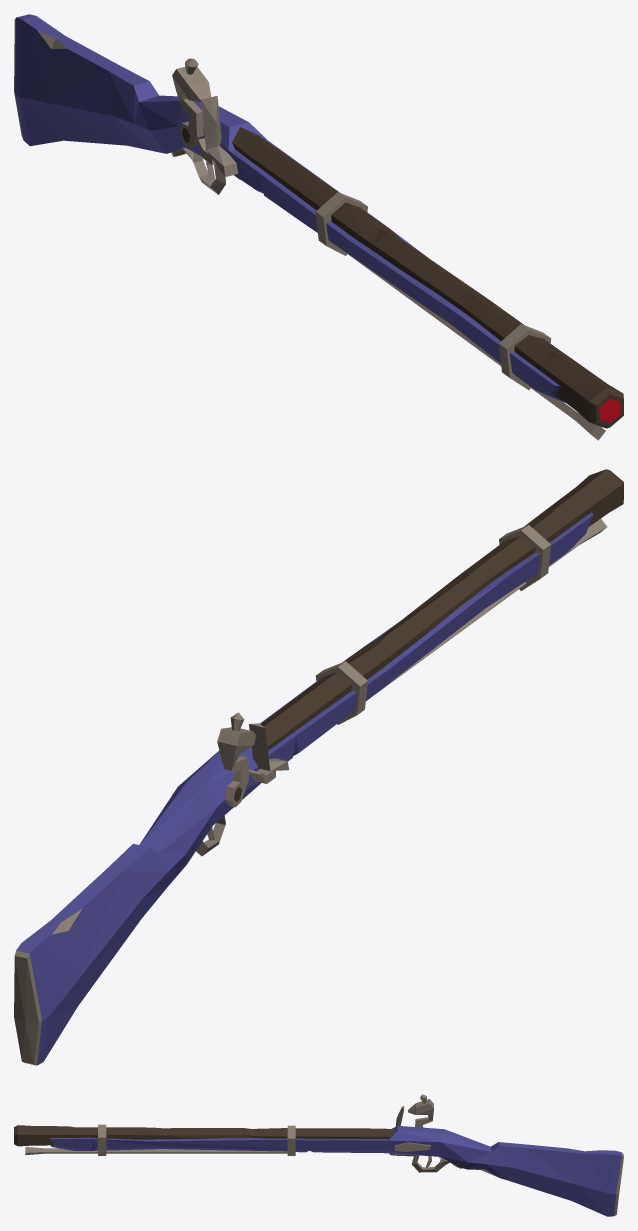
Rendered from SM_Wep_Rifle_01.glb.
The picture shows the model from 3 angles, top to bottom: view 1: azimuth 30°, elevation 25°; view 2: azimuth 150°, elevation 25°; view 3: azimuth 270°, elevation 25°; orthographic projection. The views are drawn at different scales.
Visible parts, largest first — view 1: SM_Wep_Rifle_01_00; view 2: SM_Wep_Rifle_01_00; view 3: SM_Wep_Rifle_01_00.
Part boxes in pixels (left/top/right/bottom): SM_Wep_Rifle_01_00: left=14, top=14, right=623, bottom=440; SM_Wep_Rifle_01_00: left=14, top=469, right=623, bottom=1065; SM_Wep_Rifle_01_00: left=14, top=1094, right=623, bottom=1216.
Size of the model in its own units: 0.0828 by 0.3242 by 1.56.
1 material, 1 textured.
